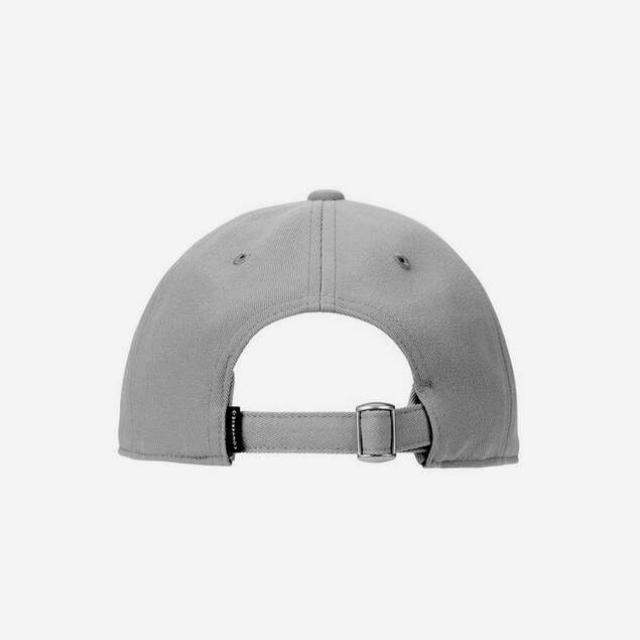Cap: (104, 173, 532, 512)
